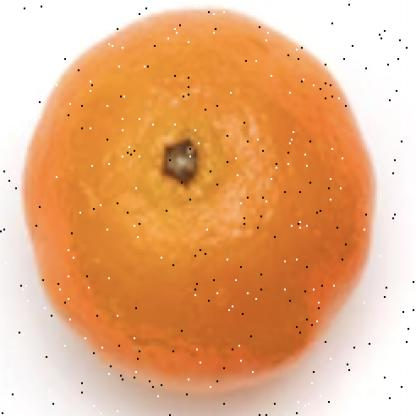orange: (8, 7, 376, 397)
